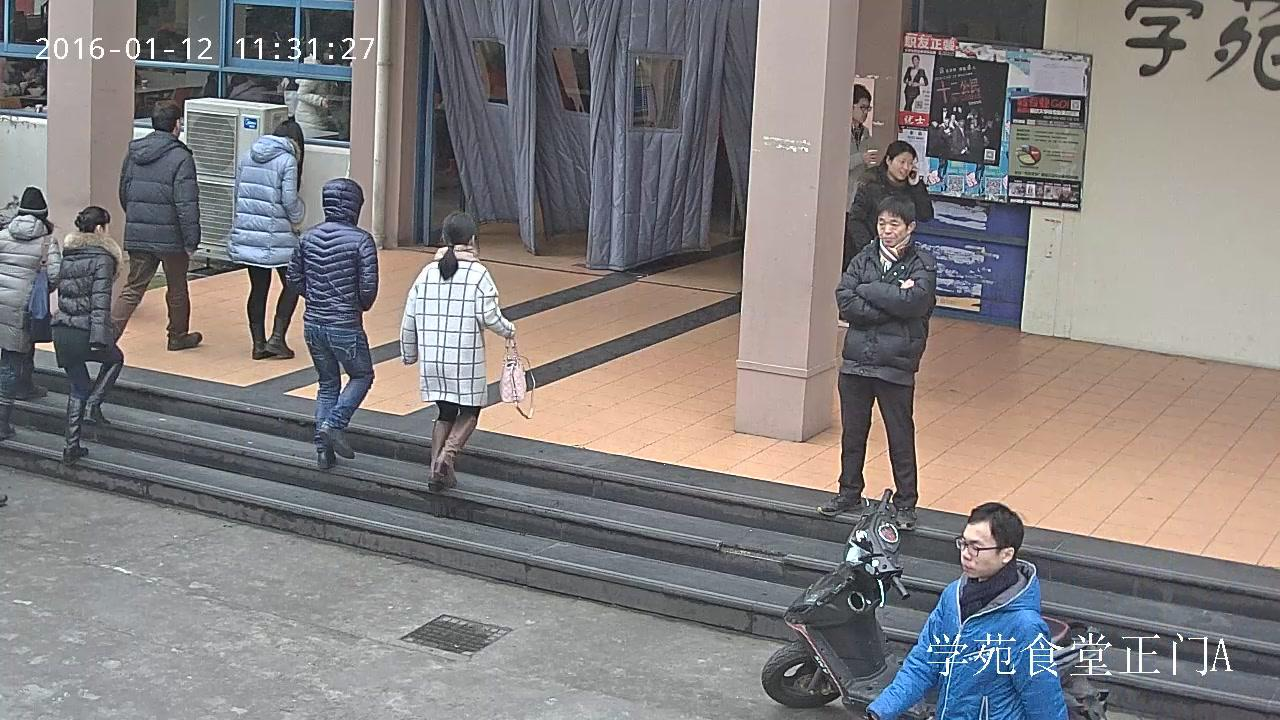person: (861, 501, 1070, 720), (817, 192, 936, 531), (398, 211, 535, 490), (283, 177, 379, 470), (102, 95, 201, 351), (51, 205, 131, 464), (228, 119, 304, 359), (0, 186, 61, 440), (842, 138, 935, 273), (834, 83, 879, 328), (293, 44, 342, 140), (902, 54, 928, 109), (0, 61, 38, 95), (227, 75, 270, 102)
